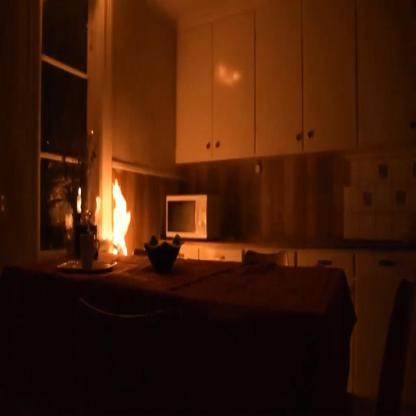fire: (107, 174, 135, 261), (79, 186, 82, 196)
